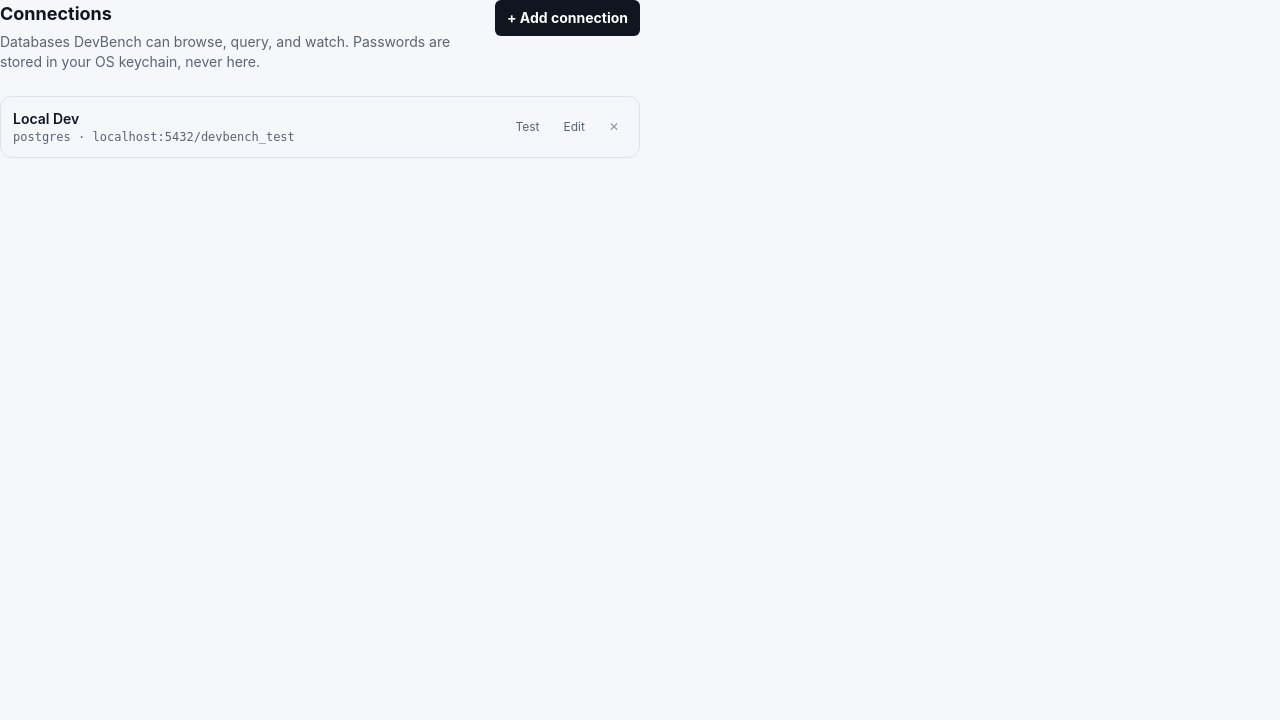
Test: ConnectionsPane › tests a saved connection against its stored secret when the password field is untouched
Check: the text "Local Dev" is shown, box [13,110,79,127]
Click the button with aria-label "Edit Local Dev" at (574, 127), box [556,115,593,139]
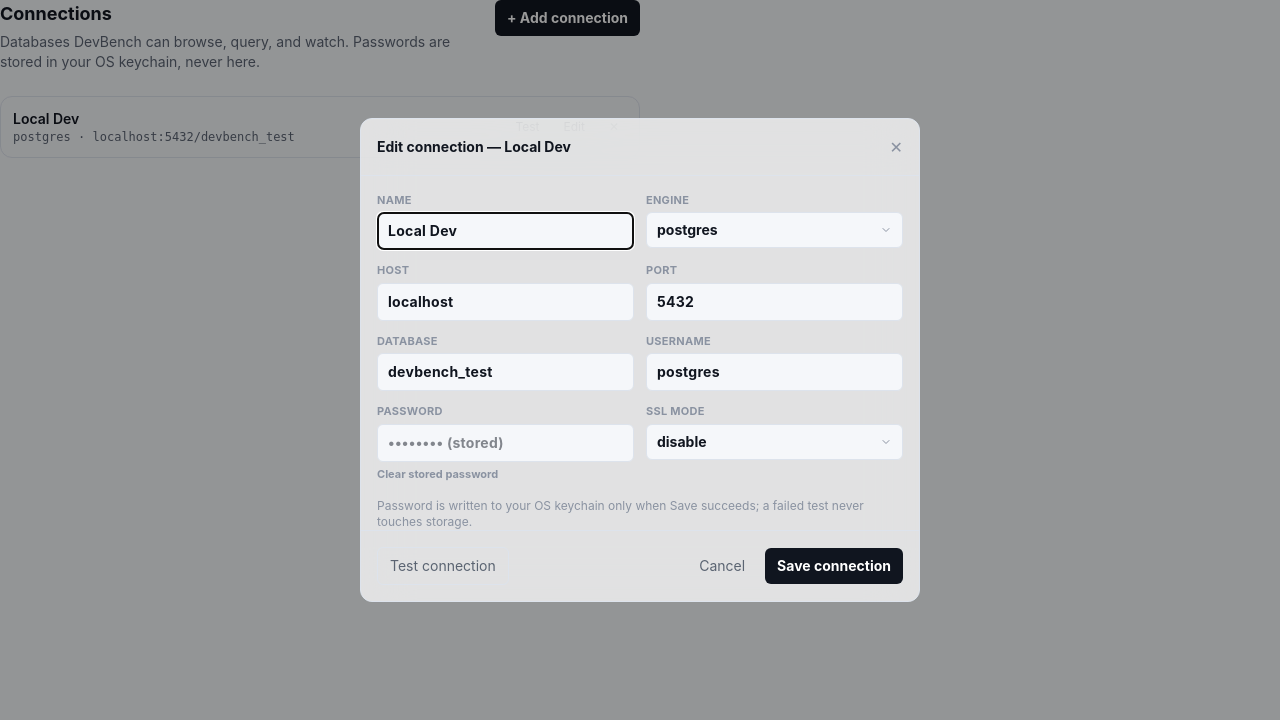
Check: the heading "Edit connection — Local Dev" is shown, box [377,137,571,157]
Click the button "Test connection" at (443, 566), box [377,547,509,585]
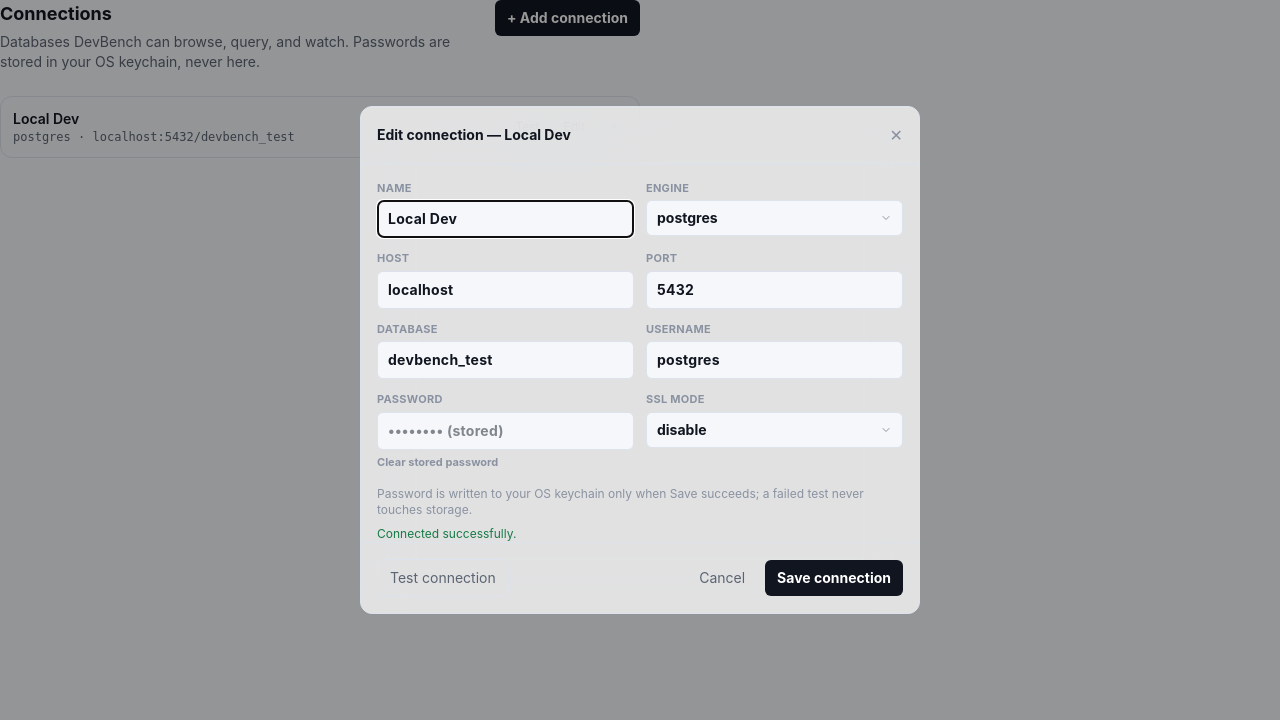
Check: the text "Connected successfully." is shown, box [377,526,516,541]
